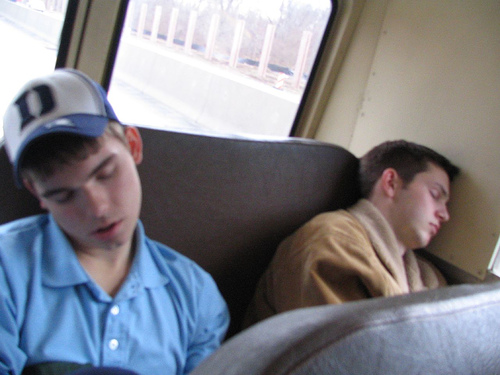without_mask: (9, 115, 142, 244), (364, 141, 461, 248)
